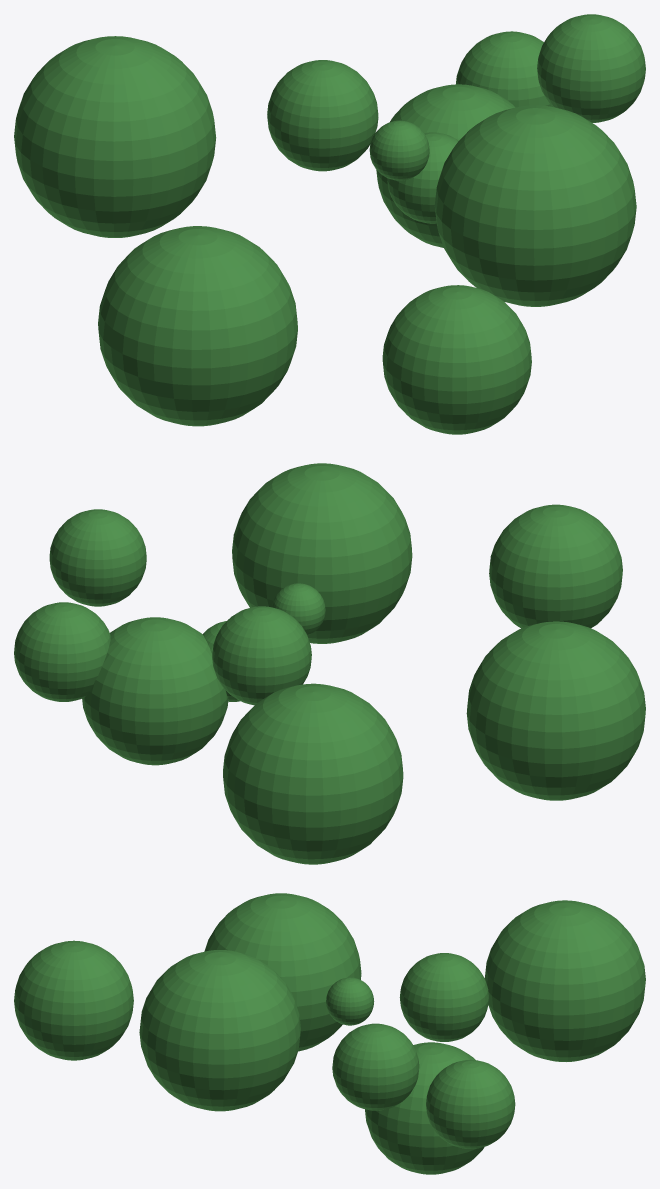
The picture shows the model from 3 angles, top to bottom: view 1: azimuth 30°, elevation 25°; view 2: azimuth 150°, elevation 25°; view 3: azimuth 270°, elevation 25°; orthographic projection. The views are drawn at different scales.
Parts seen in each view (by area): view 1: TreeCluster; view 2: TreeCluster; view 3: TreeCluster.
Part boxes in pixels (<box>): TreeCluster: <box>14,14,645,434</box>; TreeCluster: <box>14,463,645,864</box>; TreeCluster: <box>14,893,645,1174</box>.
Size of the model in its own units: 6585 by 7674 by 2760.
